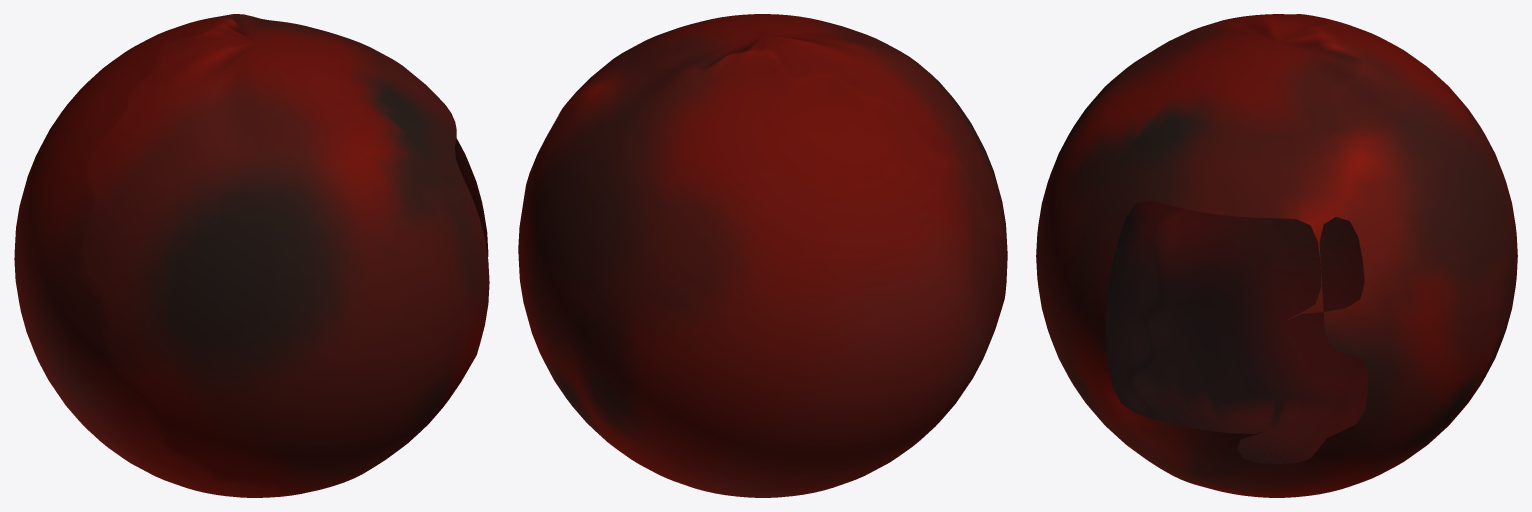
Rendered from AppleBusuk.fbx.
3 renders of one model, left to right at view 1: azimuth 30°, elevation 25°; view 2: azimuth 150°, elevation 25°; view 3: azimuth 270°, elevation 25°, orthographic.
Parts seen in each view (by area): view 1: tomat; view 2: tomat; view 3: tomat.
Boxes of the visible parts, bbox=[...] form: tomat: bbox=[14, 14, 489, 497]; tomat: bbox=[518, 14, 1007, 497]; tomat: bbox=[1036, 14, 1517, 497].
Bounding box in the file's own units: 205 × 204 × 204.
